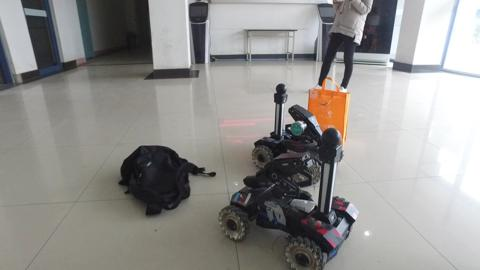bag: (122, 138, 197, 212), (308, 74, 352, 132)
chariot: (212, 124, 371, 267), (251, 81, 329, 163)
